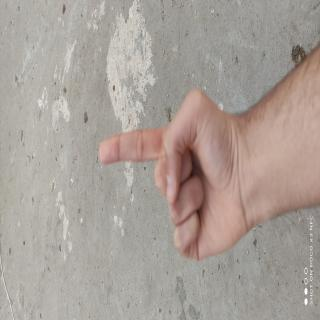BAA: (21, 210, 107, 320)
